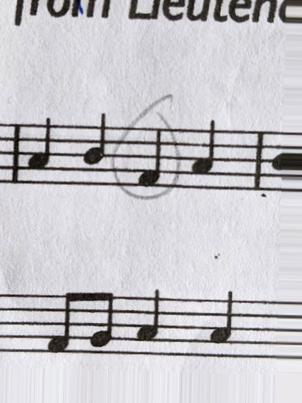note: (198, 283, 237, 362), (132, 123, 170, 200), (188, 109, 220, 198), (126, 287, 164, 357), (81, 109, 111, 193), (25, 110, 55, 192)
